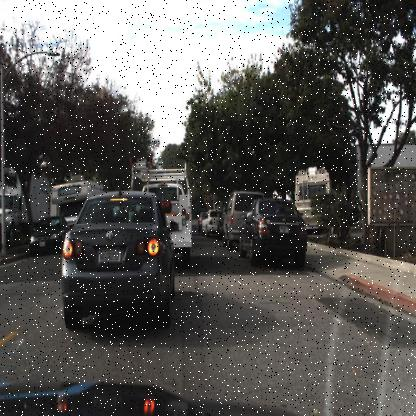car: (64, 189, 176, 329), (236, 196, 308, 270), (164, 162, 197, 270), (222, 188, 266, 252), (48, 170, 97, 220), (200, 206, 223, 240), (215, 199, 227, 245)
truck: (141, 180, 195, 260), (0, 166, 49, 243), (291, 162, 335, 242), (50, 175, 104, 237)
